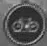bike lane: (5, 3, 43, 40)
